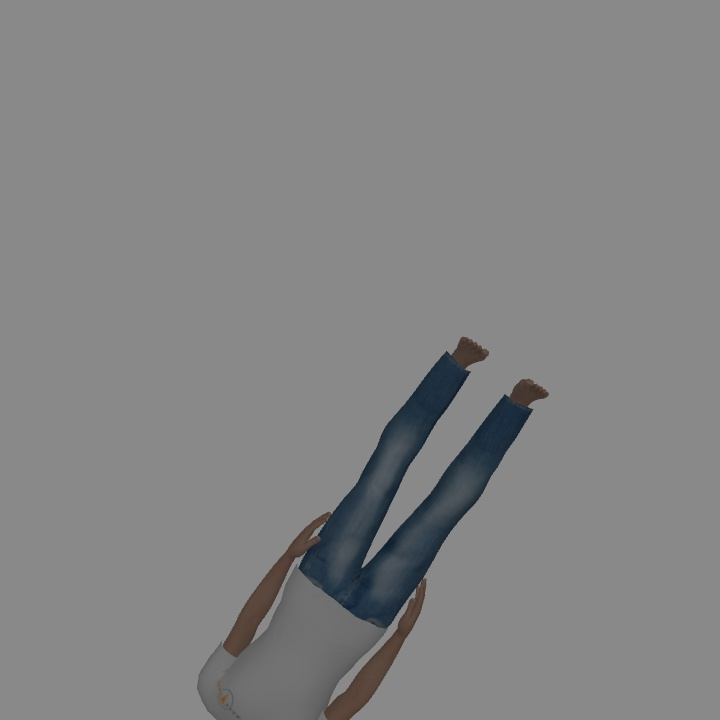victim: (202, 336, 548, 718)
